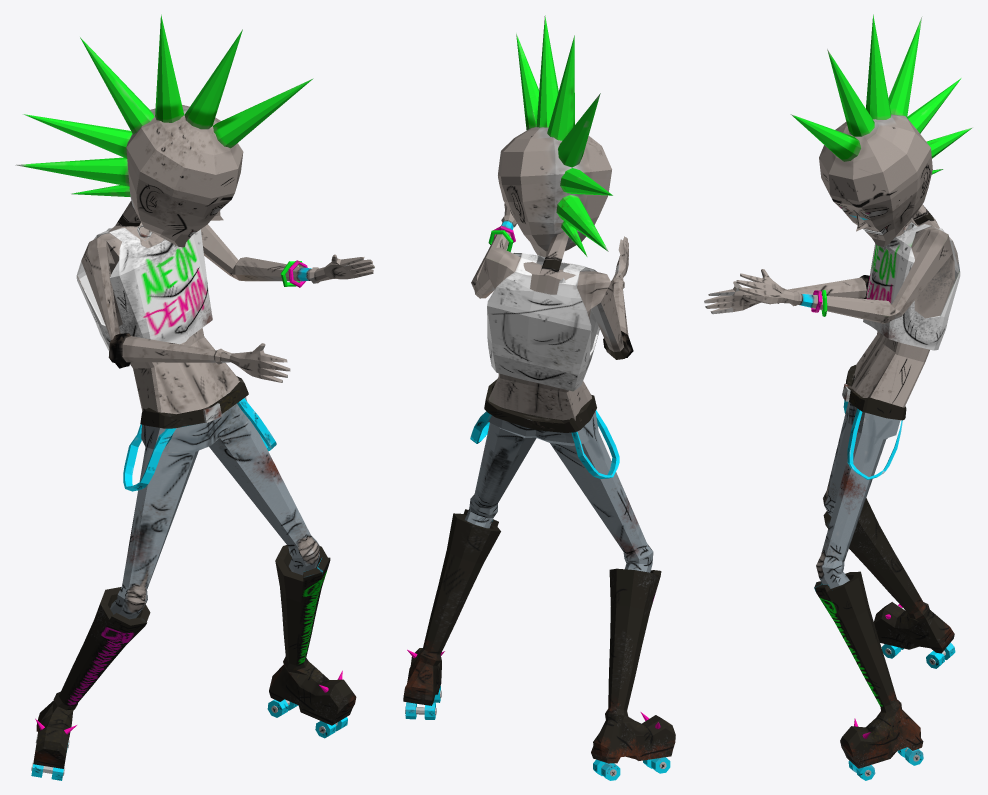
Rendered from punkAnimation_000057.obj.
3 renders of one model, left to right at view 1: azimuth 30°, elevation 25°; view 2: azimuth 150°, elevation 25°; view 3: azimuth 270°, elevation 25°, orthographic. The views are drawn at different scales.
Parts seen in each view (by area): view 1: Cube.004_Cube.003; view 2: Cube.004_Cube.003; view 3: Cube.004_Cube.003.
Boxes of the visible parts, x1,y1,x2,y2 form: Cube.004_Cube.003: [15, 14, 374, 780]; Cube.004_Cube.003: [403, 15, 675, 780]; Cube.004_Cube.003: [704, 14, 972, 780].
Size of the model in its own units: 2.96 by 7.1 by 2.52.
